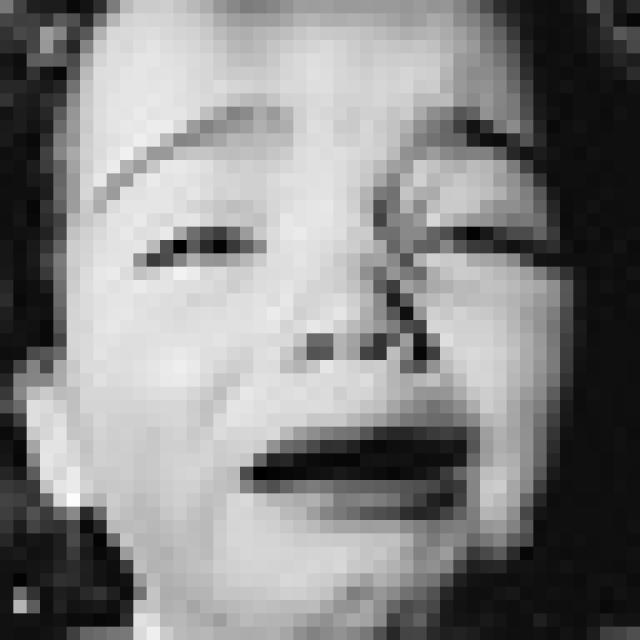sad: (79, 92, 568, 541)
